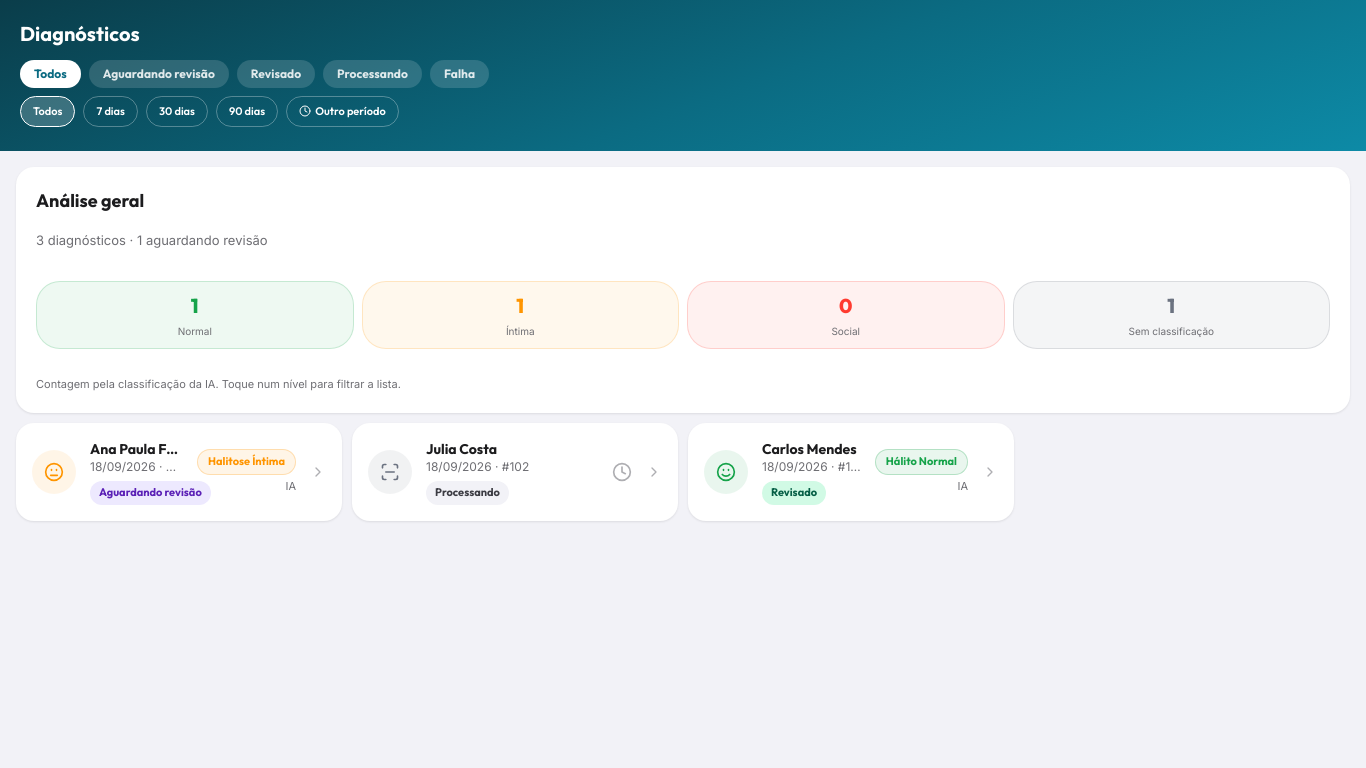
Test: Fila de diagnósticos do admin › filtra pelo nível da IA ao tocar no quadrado
expect the text "Julia Costa" is shown: met, box [426,440,497,458]
Click the button "1 Íntima" at x=520, y=315, box [362,281,679,349]
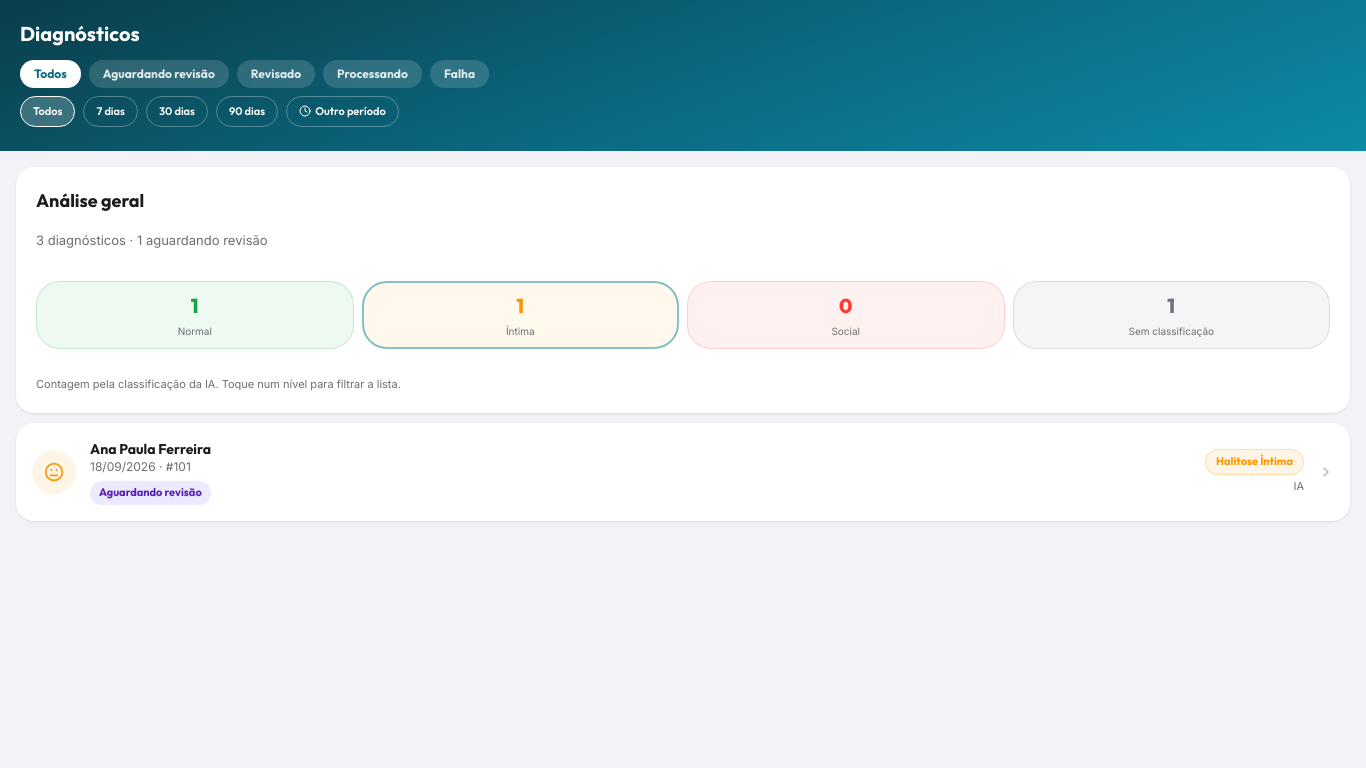
expect the text "Ana Paula Ferreira" is shown: met, box [90,440,211,458]
expect the link "Carlos Mendes" is gone: met
